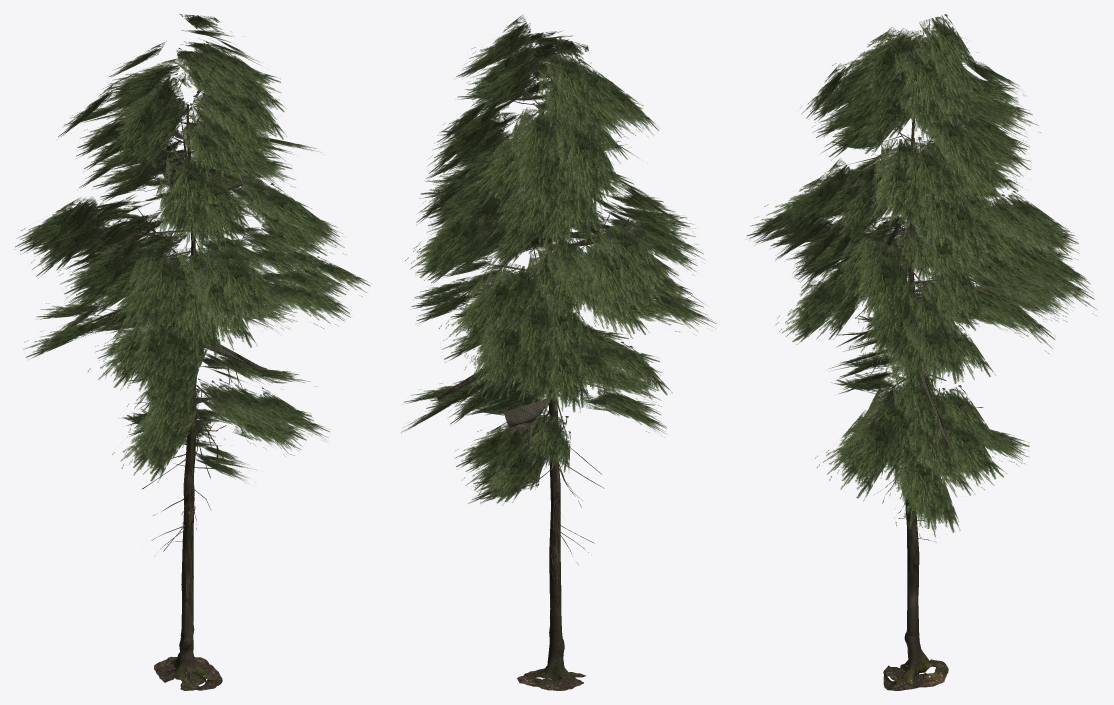
File: fir_1.glb
The picture shows the model from 3 angles, left to right: view 1: azimuth 30°, elevation 25°; view 2: azimuth 150°, elevation 25°; view 3: azimuth 270°, elevation 25°; orthographic projection. The views are drawn at different scales.
Visible parts, largest first — view 1: fir_1_leaves, fir_tree_01_trunk_b, fir_tree_01_bark, fir_tree_01_dead_branches; view 2: fir_1_leaves, fir_tree_01_trunk_b, fir_tree_01_bark, fir_tree_01_dead_branches; view 3: fir_1_leaves, fir_tree_01_trunk_b, fir_tree_01_bark.
Part boxes in pixels (x1,y1,x2,y2): fir_1_leaves: [15, 14, 370, 482]; fir_tree_01_trunk_b: [154, 104, 222, 690]; fir_tree_01_bark: [78, 43, 318, 471]; fir_tree_01_dead_branches: [134, 385, 226, 577]; fir_1_leaves: [401, 15, 716, 505]; fir_tree_01_trunk_b: [517, 232, 585, 690]; fir_tree_01_bark: [436, 37, 691, 466]; fir_tree_01_dead_branches: [515, 392, 604, 564]; fir_1_leaves: [746, 14, 1096, 537]; fir_tree_01_trunk_b: [883, 88, 948, 690]; fir_tree_01_bark: [808, 46, 1033, 480].
Bounding box in the file's own units: 6.39 × 14.23 × 6.78.
Materials: 4 (4 with a texture image).
